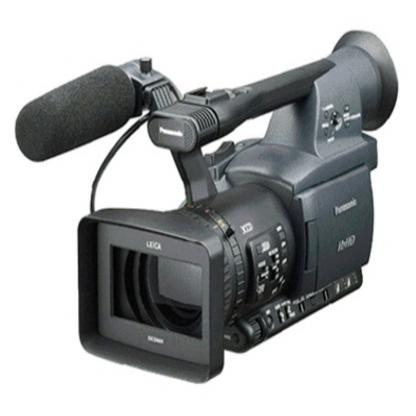Camera: (16, 26, 400, 390)
